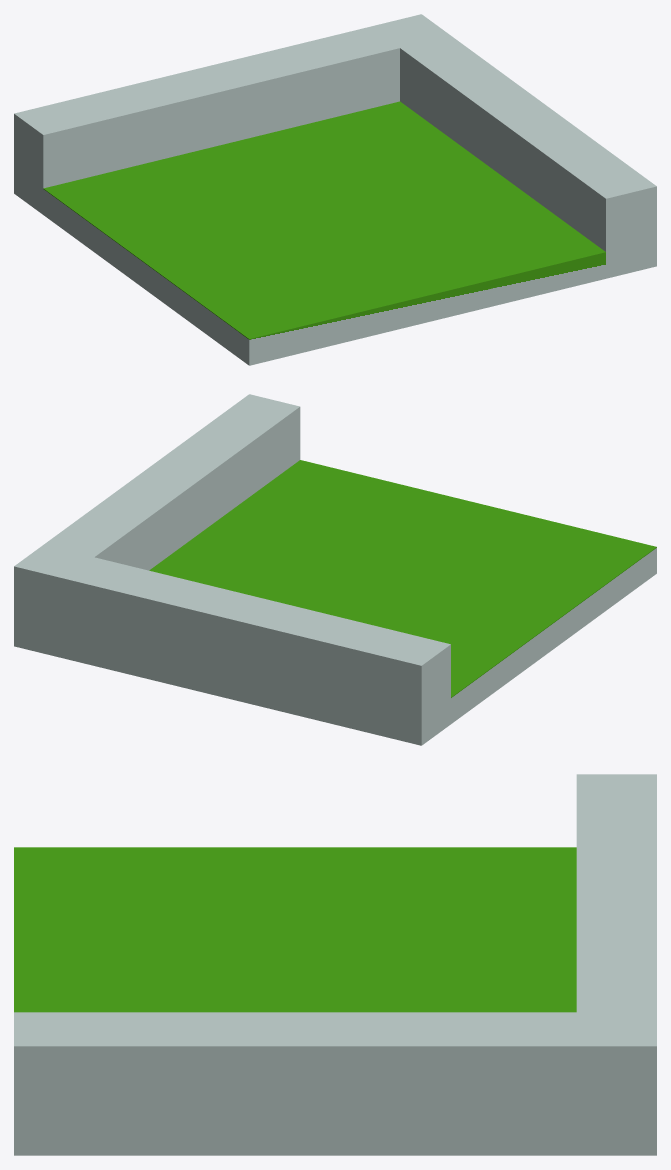
File: 2 Muros.fbx
3 views of the same model, one above another, from view 1: azimuth 30°, elevation 25°; view 2: azimuth 150°, elevation 25°; view 3: azimuth 270°, elevation 25° (orthographic). The views are drawn at different scales.
Visible parts, largest first — view 1: 2 Muros; view 2: 2 Muros; view 3: 2 Muros.
Part boxes in pixels (x1,y1,x2,y2): 2 Muros: [14, 14, 656, 365]; 2 Muros: [14, 394, 656, 745]; 2 Muros: [14, 774, 656, 1155].
Size of the model in its own units: 80 by 15 by 80.
1 material, 1 textured.
